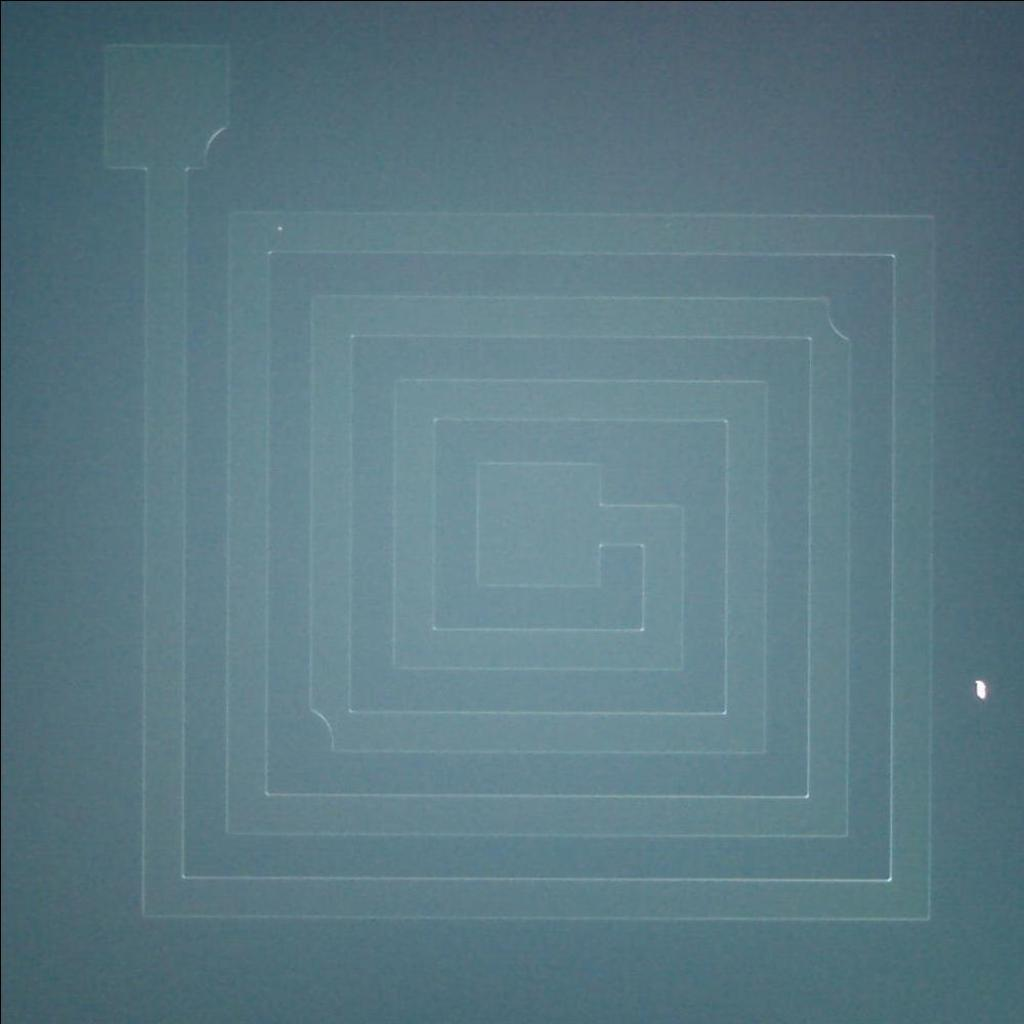curve circuit: (186, 110, 256, 181), (817, 287, 863, 355), (300, 699, 342, 761)
spot: (969, 674, 990, 704)
